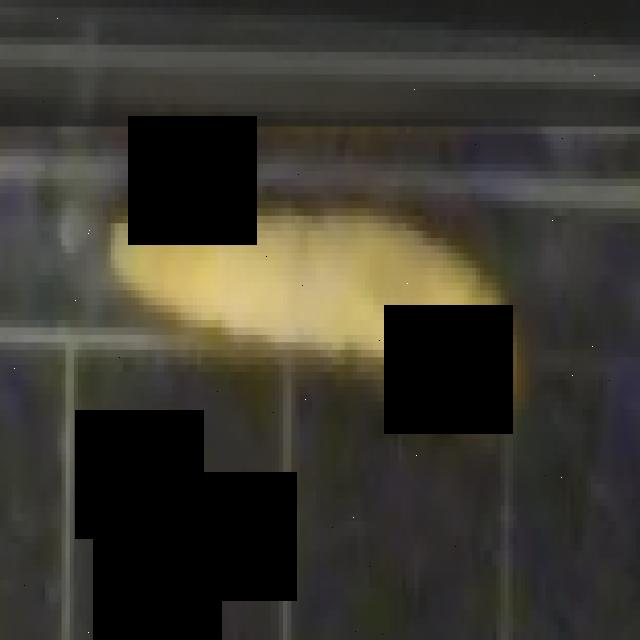larva: (106, 203, 523, 419)
